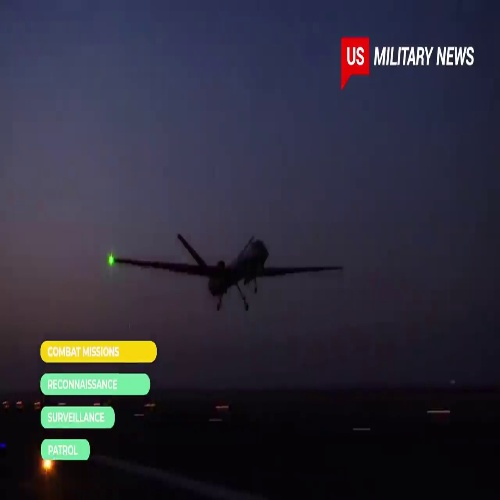uav: (106, 234, 346, 312)
